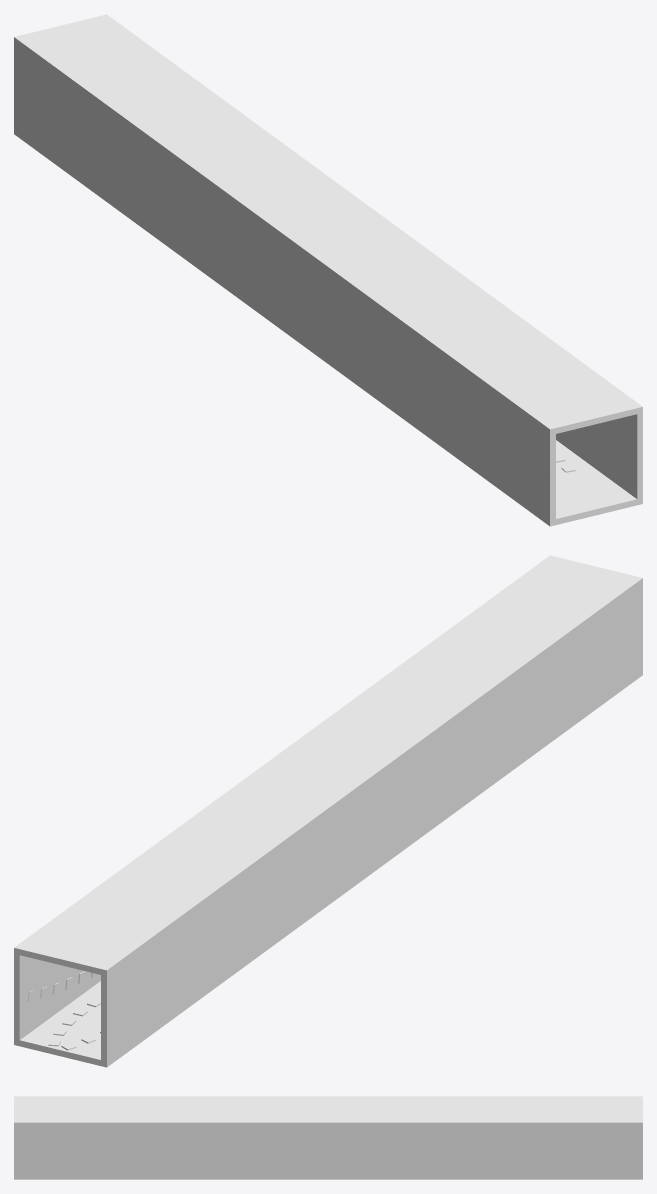
File: Demohole.obj
3 renders of one model, top to bottom at view 1: azimuth 30°, elevation 25°; view 2: azimuth 150°, elevation 25°; view 3: azimuth 270°, elevation 25°, orthographic. The views are drawn at different scales.
Parts seen in each view (by area): view 1: 立方体; view 2: 立方体; view 3: 立方体.
Boxes of the visible parts, <box> form: 立方体: <box>14,14,642,526</box>; 立方体: <box>14,555,642,1067</box>; 立方体: <box>14,1096,642,1179</box>.
Size of the model in its own units: 20 by 20 by 200.
1 material, 1 textured.
